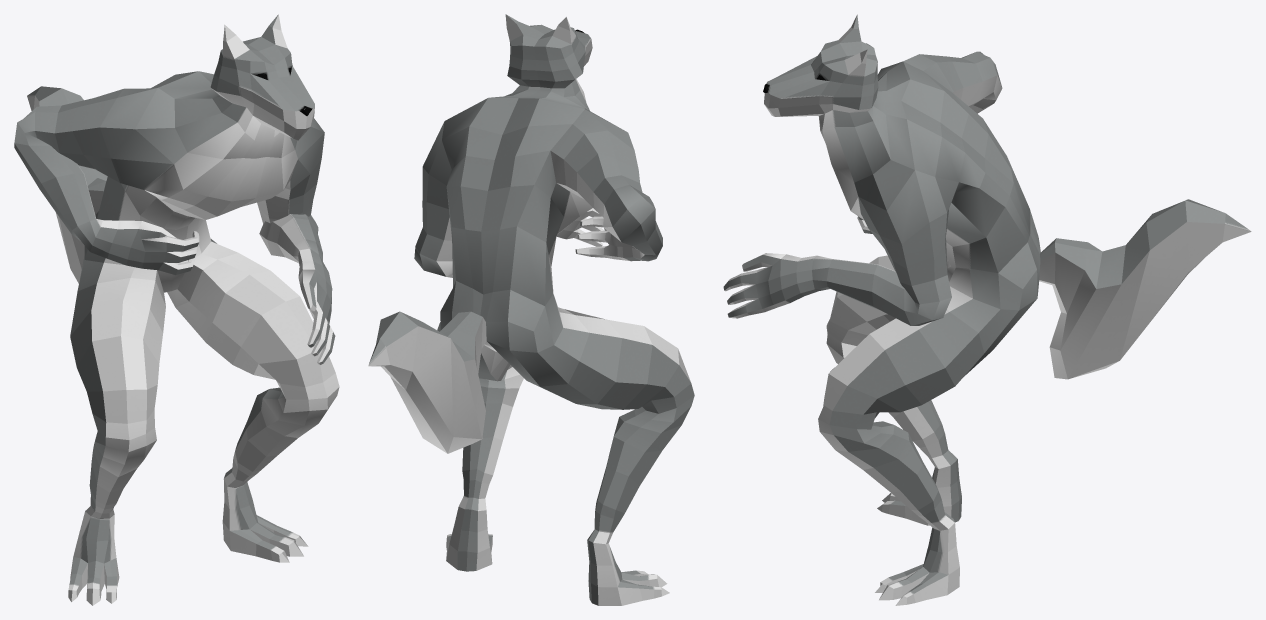
File: WolfIdle_(37).obj
The picture shows the model from 3 angles, left to right: view 1: azimuth 30°, elevation 25°; view 2: azimuth 150°, elevation 25°; view 3: azimuth 270°, elevation 25°; orthographic projection. The views are drawn at different scales.
Visible parts, largest first — view 1: Box001; view 2: Box001; view 3: Box001.
Boxes of the visible parts, x1=… form: Box001: x1=14, y1=14, x2=339, y2=605; Box001: x1=368, y1=14, x2=694, y2=605; Box001: x1=723, y1=14, x2=1251, y2=605.
Bounding box in the file's own units: 67.43 × 132 × 116.
